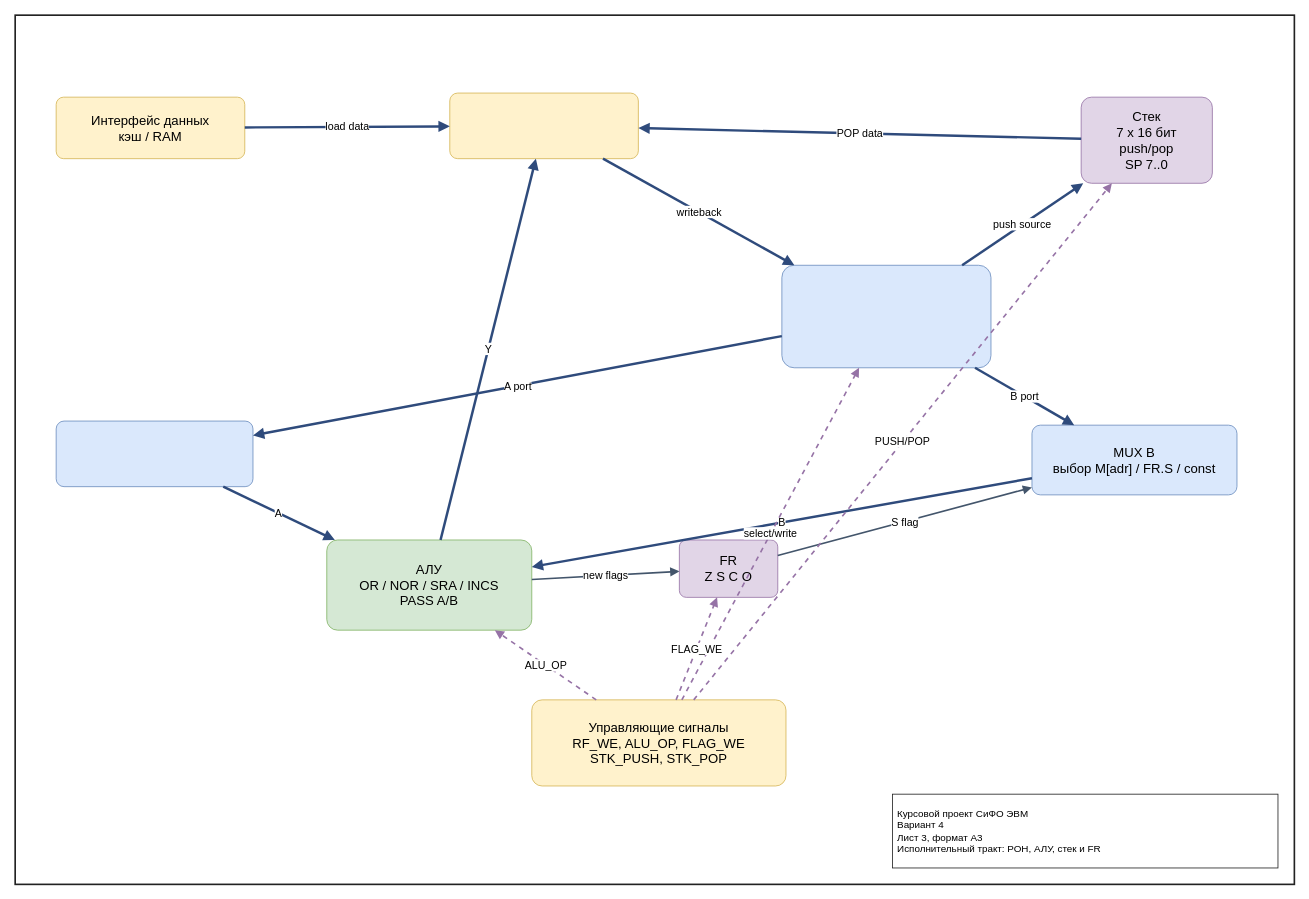
Image size: 1309x899. Some labels were removed from this diagram. The shapes that lost their labels are listed below. From the top down, each one's box as (x1, y1, x2, y2) in pixels, then its label:
(449, 92, 638, 159): MUX записи ALU / POP / MEM
(781, 264, 991, 368): РОН 12 x 16 бит два канала чтения один канал записи
(55, 420, 253, 487): MUX A выбор Rn / const 0
